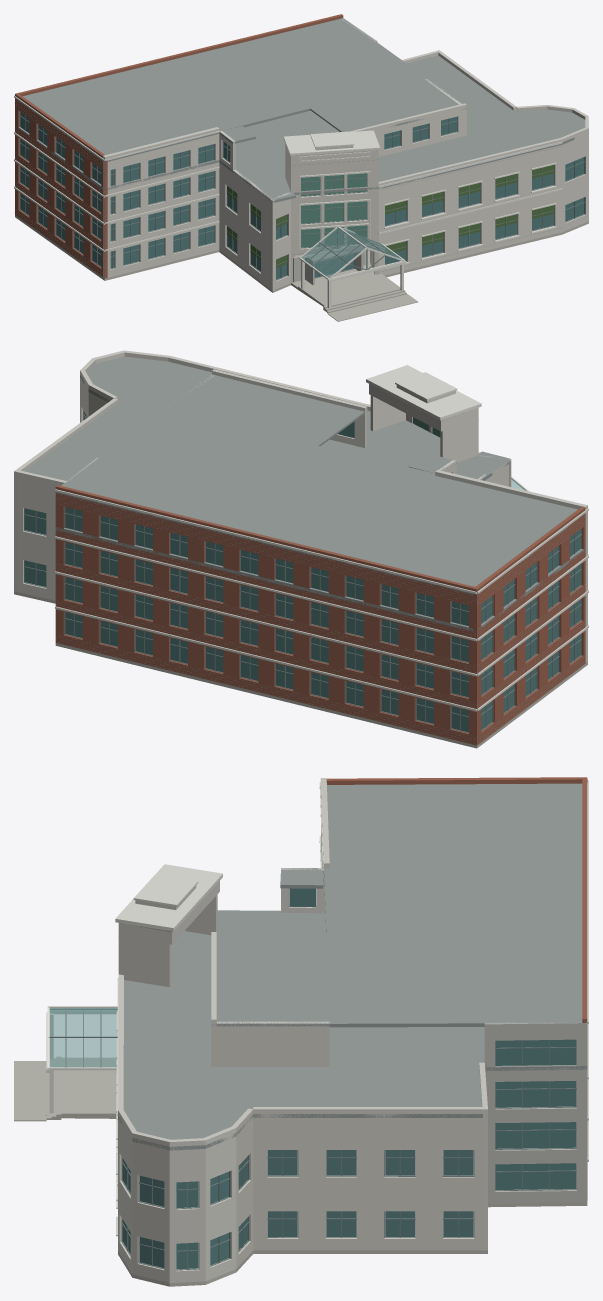
3 renders of one model, top to bottom at view 1: azimuth 30°, elevation 25°; view 2: azimuth 150°, elevation 25°; view 3: azimuth 270°, elevation 25°, orthographic. The views are drawn at different scales.
Visible parts, largest first — view 1: c6-main-admin__four-storey-rear-roof, c6-main-admin__low-front-wing-roof, c6-main-admin__front-low-wing-stone, c6-main-admin__left-four-storey-stone, c6-main-admin__lake-south-brick, c6-main-admin__left-paired-window-groups-glass, c6-main-admin__left-recess-return, c6-main-admin__setback-upper-roof, c6-main-admin__raised-central-head-stone, c6-main-admin__lake-south-windows-glass, c6-main-admin__central-head-large-window-group-glass, c6-main-admin__front-broad-window-groups-glass (+34 smaller); view 2: c6-main-admin__four-storey-rear-roof, c6-main-admin__lake-west-brick, c6-main-admin__lake-west-windows-glass, c6-main-admin__low-front-wing-roof, c6-main-admin__lake-south-brick, c6-main-admin__setback-upper-roof, c6-main-admin__lake-floor-bands, c6-main-admin__lake-west-windows-frame, c6-main-admin__lake-brick-bed-joints, c6-main-admin__north-low-wing-stone, c6-main-admin__lake-south-windows-glass, c6-main-admin__lake-brick-parapet (+15 smaller); view 3: c6-main-admin__four-storey-rear-roof, c6-main-admin__north-low-wing-stone, c6-main-admin__low-front-wing-roof, c6-main-admin__north-wing-window-glass, c6-main-admin__setback-upper-roof, c6-main-admin__rear-upper-north-return, c6-main-admin__rear-upper-return-window-glass, c6-main-admin__setback-upper-side, c6-main-admin__canopy-sloping-glass, c6-main-admin__lake-brick-parapet, c6-main-admin__north-wing-parapet, c6-main-admin__entry-landing (+13 smaller).
Boxes of the visible parts, x1,y1,x2,y2 form: c6-main-admin__four-storey-rear-roof: (23, 18, 427, 161); c6-main-admin__low-front-wing-roof: (18, 55, 585, 200); c6-main-admin__front-low-wing-stone: (378, 145, 562, 275); c6-main-admin__left-four-storey-stone: (103, 134, 219, 278); c6-main-admin__lake-south-brick: (16, 99, 107, 278); c6-main-admin__left-paired-window-groups-glass: (110, 144, 214, 268); c6-main-admin__left-recess-return: (219, 162, 275, 290); c6-main-admin__setback-upper-roof: (309, 78, 466, 131); c6-main-admin__raised-central-head-stone: (290, 158, 378, 282); c6-main-admin__lake-south-windows-glass: (20, 112, 101, 266); c6-main-admin__central-head-large-window-group-glass: (301, 173, 366, 247); c6-main-admin__front-broad-window-groups-glass: (385, 173, 553, 264); c6-main-admin__four-storey-rear-roof: (55, 409, 577, 594); c6-main-admin__lake-west-brick: (55, 492, 478, 745); c6-main-admin__lake-west-windows-glass: (65, 507, 468, 732); c6-main-admin__low-front-wing-roof: (25, 356, 585, 631); c6-main-admin__lake-south-brick: (473, 513, 585, 745); c6-main-admin__setback-upper-roof: (164, 374, 364, 446); c6-main-admin__lake-floor-bands: (55, 489, 588, 711); c6-main-admin__lake-west-windows-frame: (64, 507, 468, 733); c6-main-admin__lake-brick-bed-joints: (56, 492, 587, 743); c6-main-admin__north-low-wing-stone: (14, 375, 109, 600); c6-main-admin__lake-south-windows-glass: (481, 529, 580, 729); c6-main-admin__lake-brick-parapet: (55, 485, 585, 591); c6-main-admin__four-storey-rear-roof: (324, 783, 582, 1027); c6-main-admin__north-low-wing-stone: (118, 1114, 487, 1283); c6-main-admin__low-front-wing-roof: (118, 830, 587, 1150); c6-main-admin__north-wing-window-glass: (122, 1150, 473, 1269); c6-main-admin__setback-upper-roof: (212, 936, 329, 1026); c6-main-admin__rear-upper-north-return: (484, 1022, 587, 1203); c6-main-admin__rear-upper-return-window-glass: (495, 1039, 576, 1189); c6-main-admin__setback-upper-side: (211, 1021, 329, 1066); c6-main-admin__canopy-sloping-glass: (49, 1008, 117, 1067); c6-main-admin__lake-brick-parapet: (326, 777, 587, 1022); c6-main-admin__north-wing-parapet: (118, 1062, 487, 1146); c6-main-admin__entry-landing: (61, 1058, 116, 1115).
Size of the model in its own units: 58.87 by 17.53 by 44.26.
